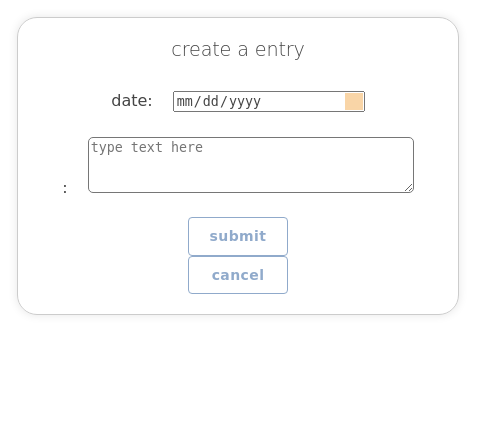
Test: Entry component is confirming new entry for user
The width and height of the screenshot is (477, 436).
Type "2023-11-09" into the date field labelled "date:" at {"x": 269, "y": 102}, box [173, 91, 365, 112]
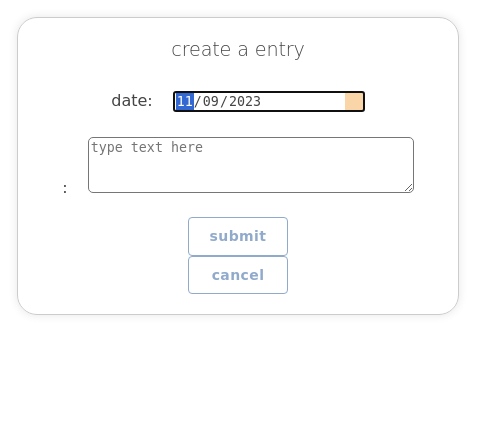
Type "abundance mindset" into the text box at {"x": 251, "y": 165}, box [88, 137, 414, 193]
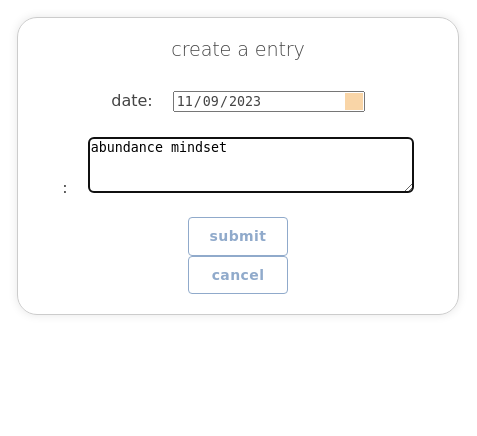
Click the button "Submit" at {"x": 238, "y": 237}, box [188, 217, 288, 256]
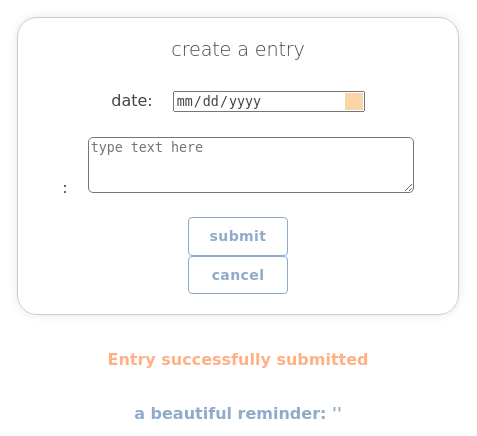
Result: the text "Entry successfully submitted" is shown at [108, 350, 369, 369]
